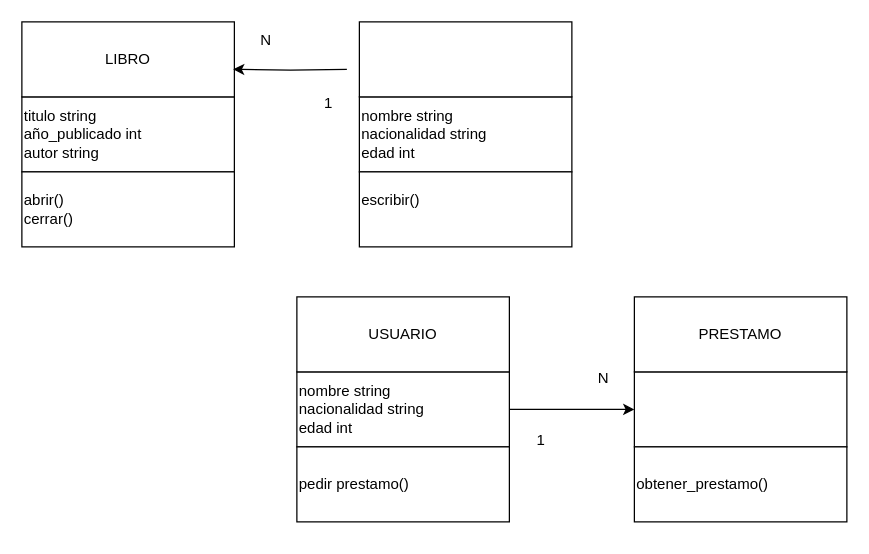
The diagram is 869 pixels wide and 554 high, and some of its shapes have lost their labels. Here are the shapes that lost their labels. From the top down, the centre of each, then its label:
At [465,59]: "AUTOR".
At [740,409]: "cantidad int fecha_inicio int fecha_final int".
